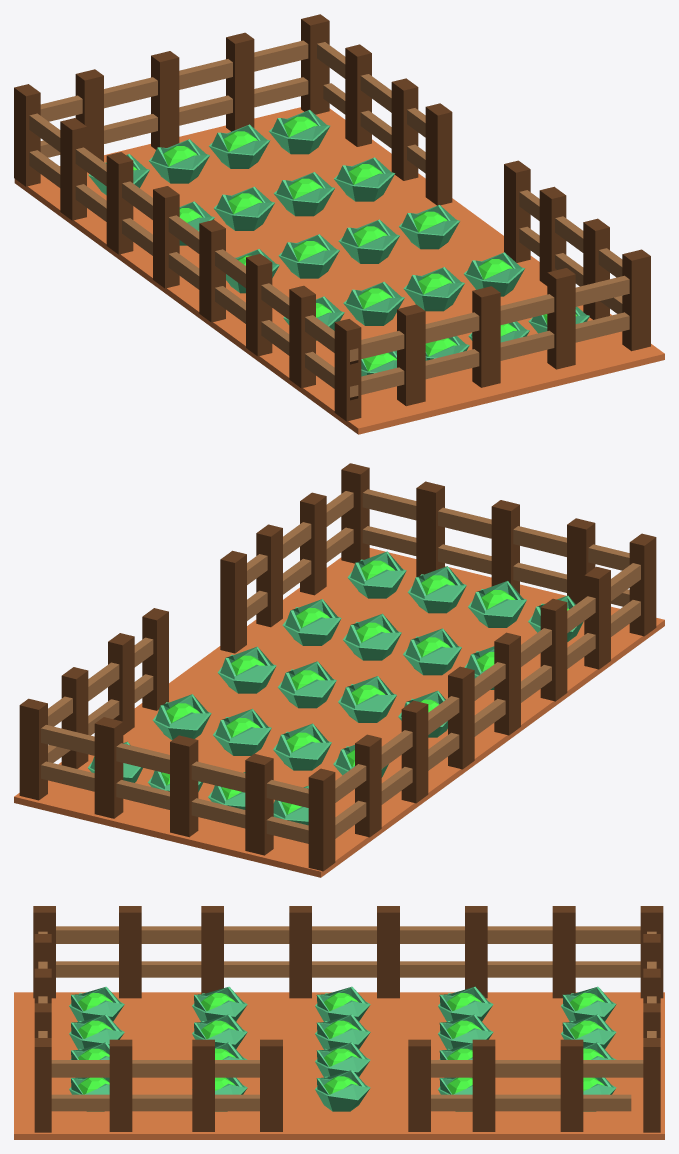
File: Tarla_Guncel.fbx
3 views of the same model, one above another, from view 1: azimuth 30°, elevation 25°; view 2: azimuth 150°, elevation 25°; view 3: azimuth 270°, elevation 25° (orthographic). The views are drawn at different scales.
Visible parts, largest first — view 1: Tarla; view 2: Tarla; view 3: Tarla.
Part boxes in pixels (x1=…): Tarla: x1=14, y1=14, x2=664, y2=434; Tarla: x1=14, y1=463, x2=664, y2=877; Tarla: x1=14, y1=906, x2=664, y2=1139.
Size of the model in its own units: 712 by 213 by 1376.
